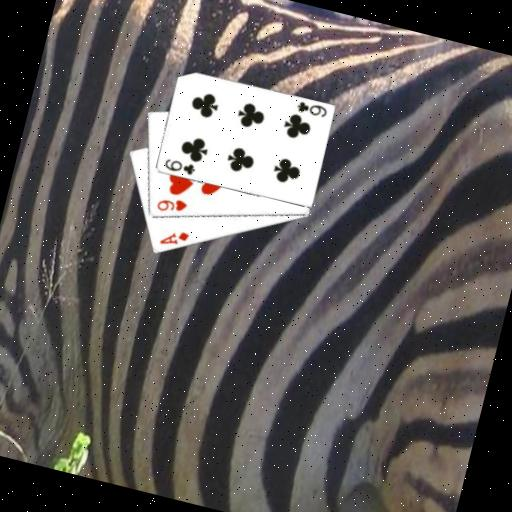6C: (292, 97, 330, 121), (161, 155, 198, 178)
9H: (153, 191, 191, 219)
AD: (156, 223, 192, 252)
